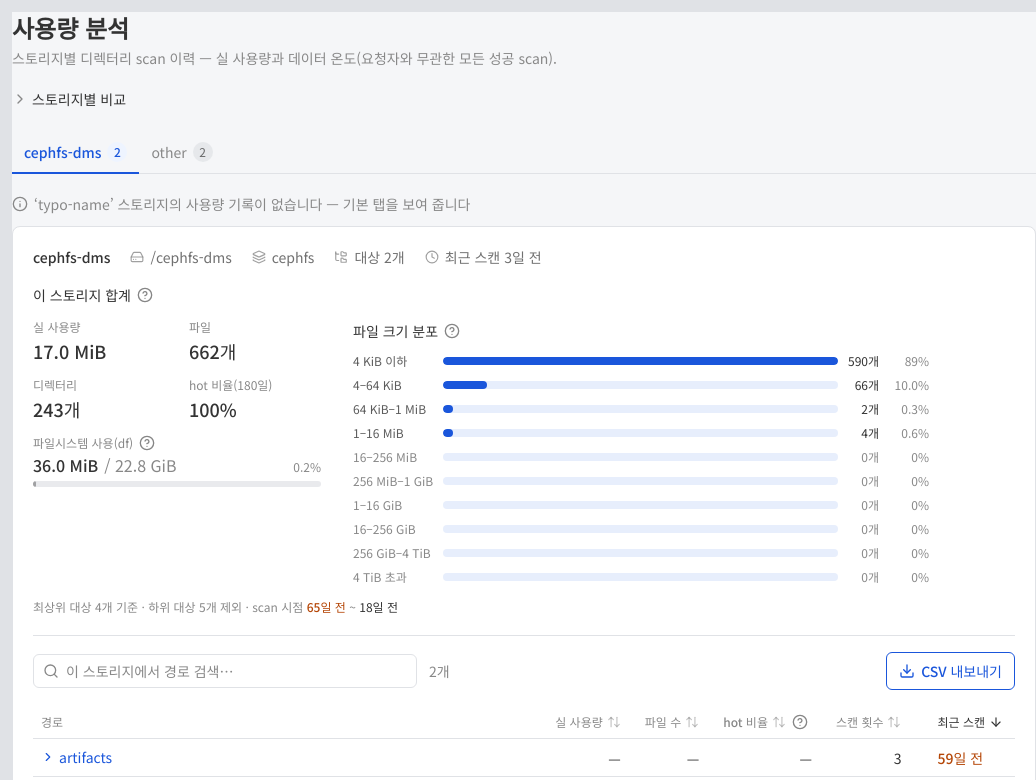
URL 의 storage 가 탭에 없으면(데이터 도착 후) 기본 탭 + 흐린 안내 한 줄, URL 은 replace 로 정리
Expected: the text "‘typo-name’ 스토리지의 사용량 기록이 없습니다 — 기본 탭을 보여 줍니다" is shown, [12,194,470,214]
Expected: the button "artifacts" is shown, [41,747,112,767]
Click the tab "cephfs-dms 2" at (76, 153), box [12,132,139,174]
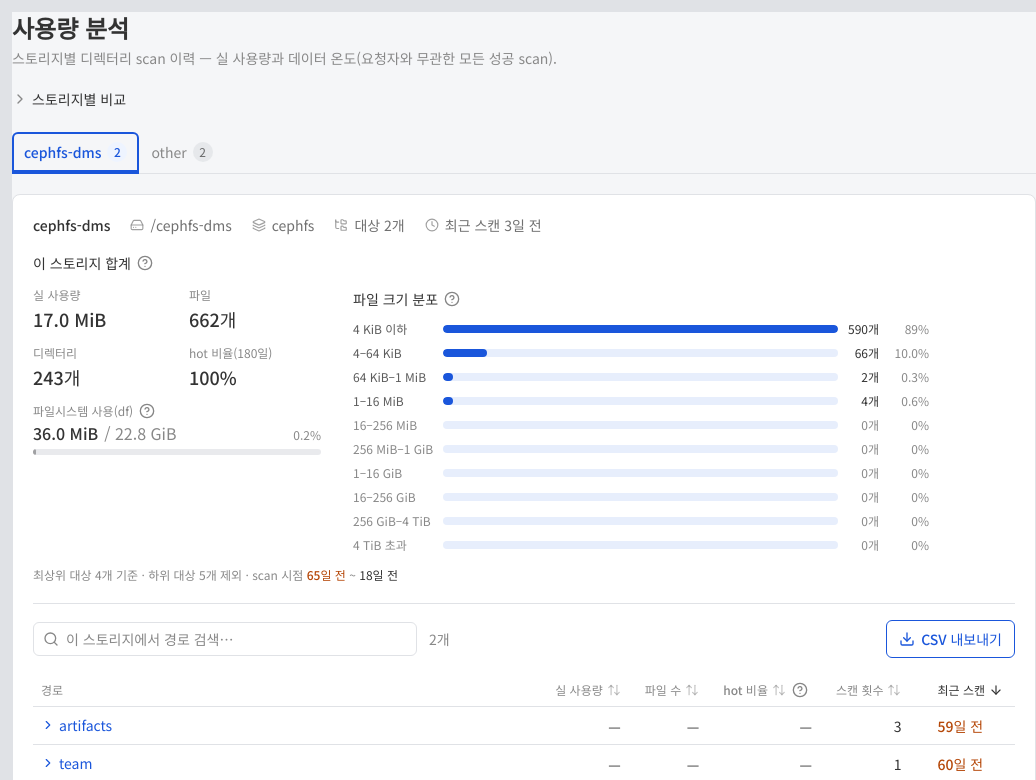
Expected: the 1st text "cephfs-dms" is shown, [24,140,101,164]
Expected: the text "typo-name" is gone
